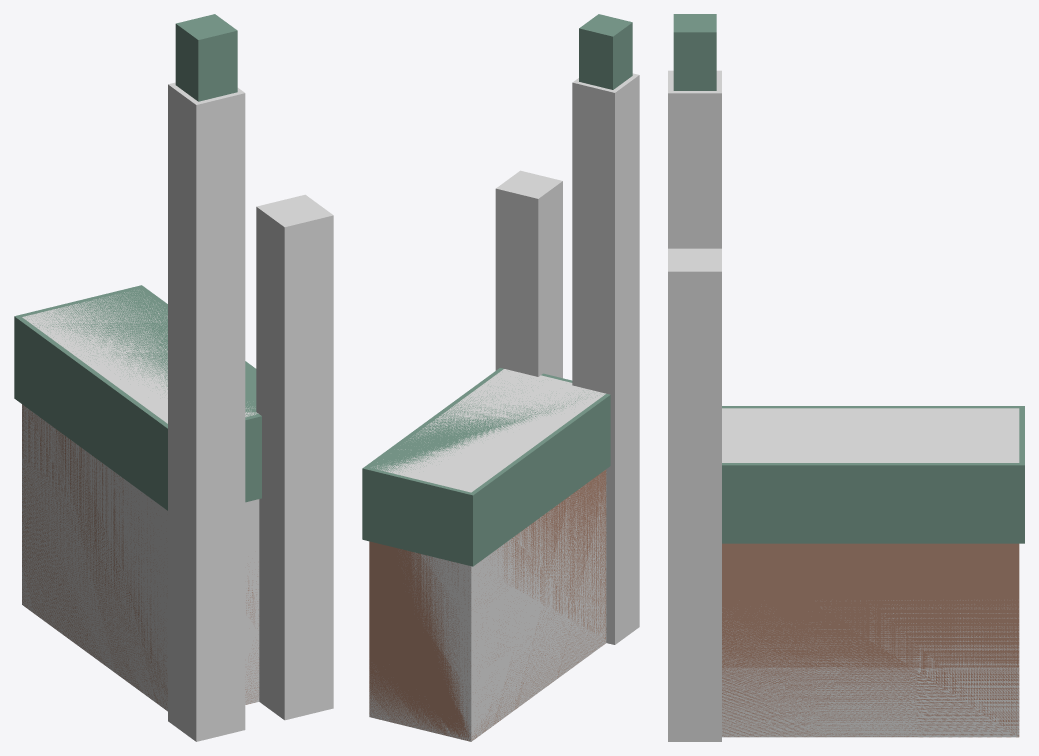
File: church_mass.glb
The picture shows the model from 3 angles, left to right: view 1: azimuth 30°, elevation 25°; view 2: azimuth 150°, elevation 25°; view 3: azimuth 270°, elevation 25°; orthographic projection. The views are drawn at different scales.
Parts seen in each view (by area): view 1: church_mass-col, church_mass; view 2: church_mass-col, church_mass; view 3: church_mass, church_mass-col.
Part boxes in pixels (x1,y1,x2,y2): church_mass-col: (22, 82, 333, 741); church_mass: (14, 14, 261, 710); church_mass-col: (369, 73, 639, 741); church_mass: (362, 14, 632, 741); church_mass: (673, 14, 1024, 737); church_mass-col: (668, 70, 1019, 741).
Size of the model in its own units: 14 by 68 by 33.
